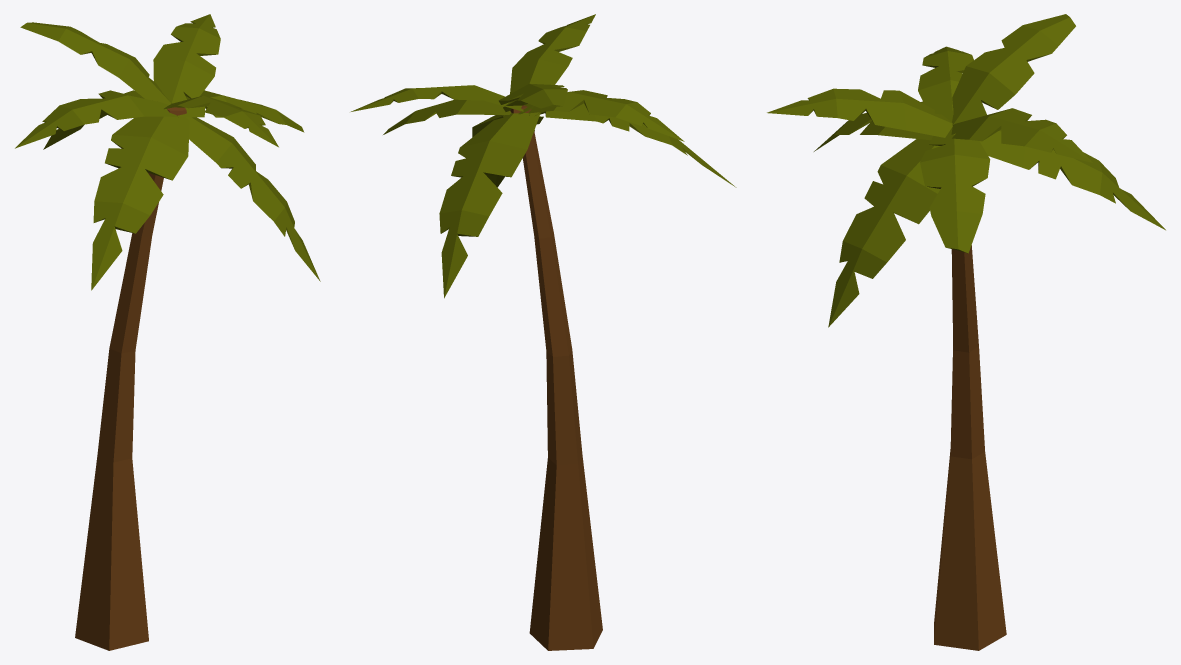
File: PalmTree4.fbx
The picture shows the model from 3 angles, left to right: view 1: azimuth 30°, elevation 25°; view 2: azimuth 150°, elevation 25°; view 3: azimuth 270°, elevation 25°; orthographic projection. The views are drawn at different scales.
Parts seen in each view (by area): view 1: PalmTree4; view 2: PalmTree4; view 3: PalmTree4.
Boxes of the visible parts, left/top/right/bottom form: PalmTree4: left=15, top=14, right=320, bottom=650; PalmTree4: left=351, top=14, right=736, bottom=650; PalmTree4: left=767, top=14, right=1165, bottom=650.
Bounding box in the file's own units: 264 × 499 × 302.
